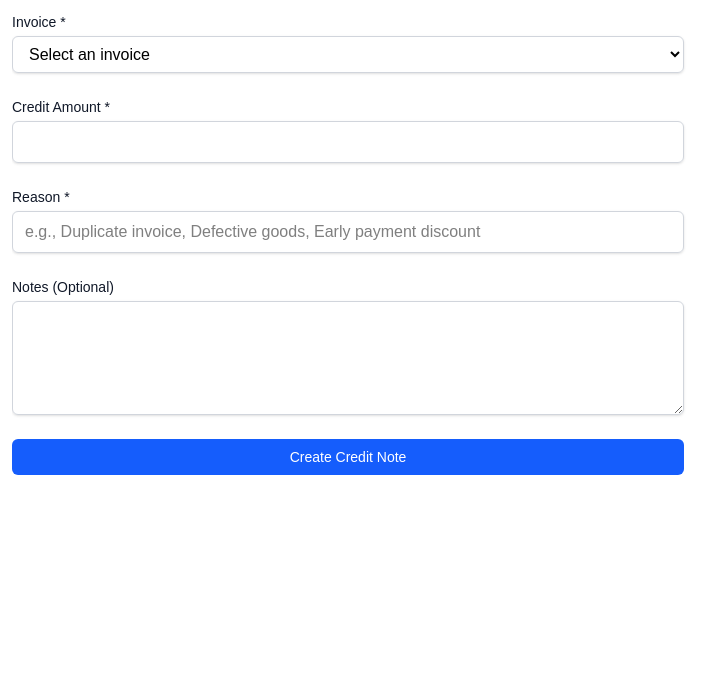
Scenario: CreateCreditNoteForm › creates nothing when the confirmation is dismissed
This screenshot has width=701, height=688.
Step 1. Select "INV-0001 - Due: 300.00 AUD" in the dropdown labelled "Invoice *" → point(348, 54), box [12,36,684,73]
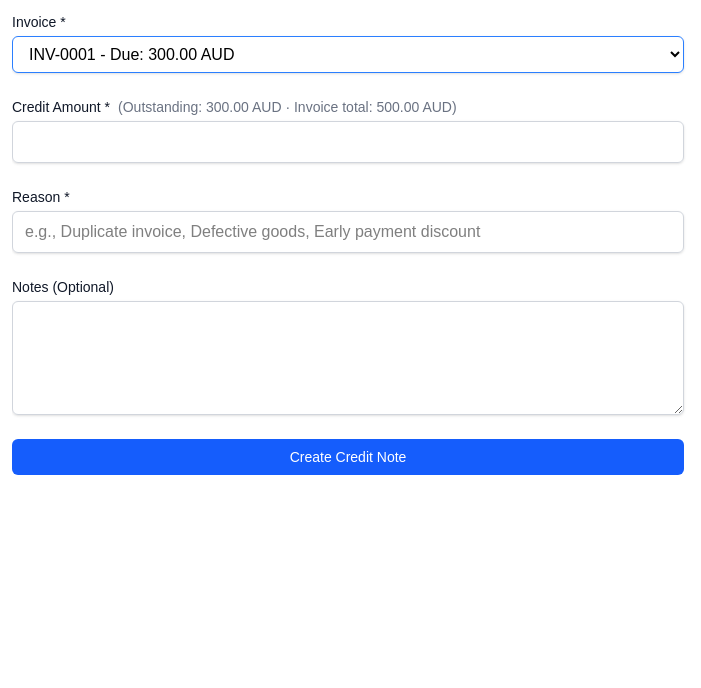
Step 2. Type "400" into the number field labelled "Credit Amount" → point(348, 142), box [12,121,684,163]
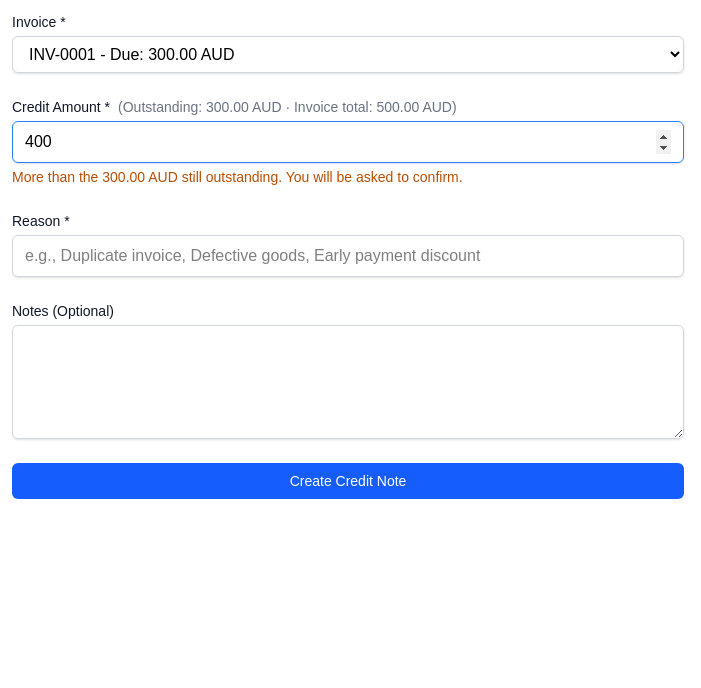
Step 3. Type "Returned goods" into the field labelled "Reason *" → point(348, 256), box [12,235,684,277]
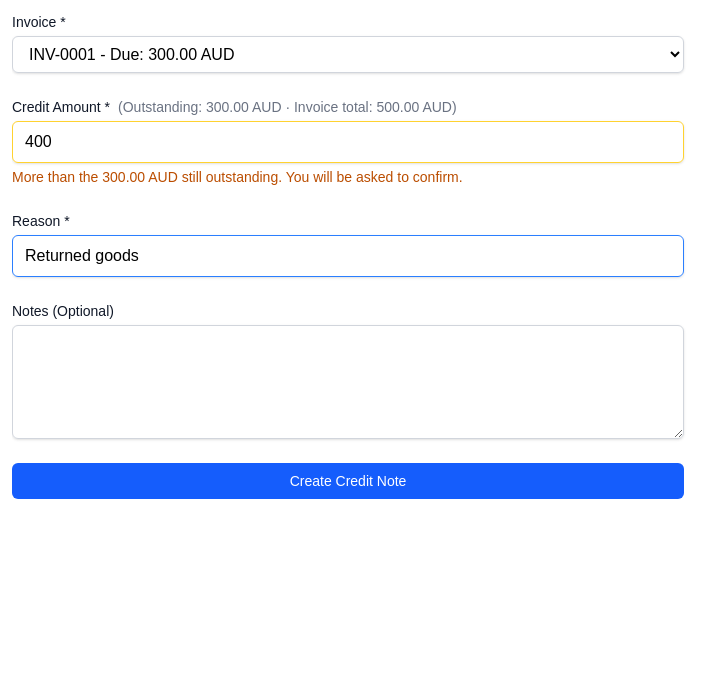
Step 4. Click the button "Create Credit Note" → point(348, 481), box [12,463,684,499]
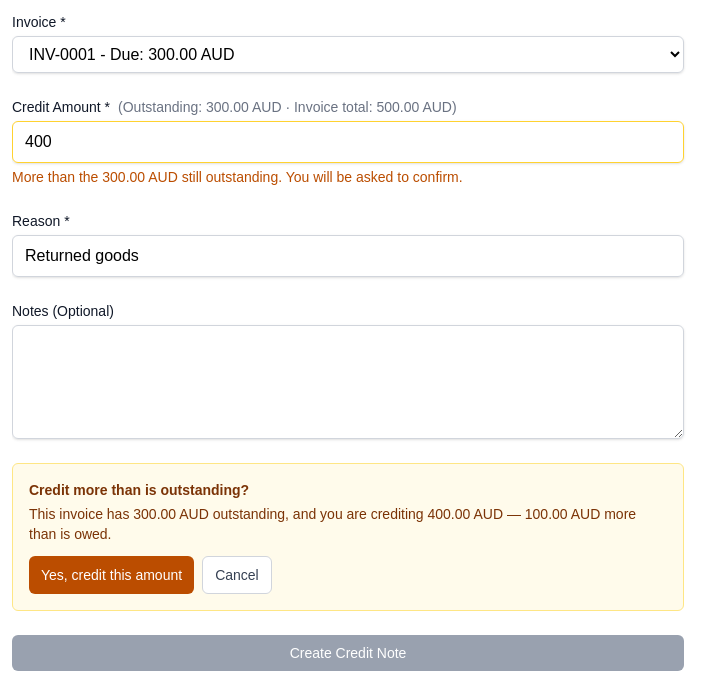
Step 5. Click the button "Cancel" → point(237, 575), box [202,556,272,594]
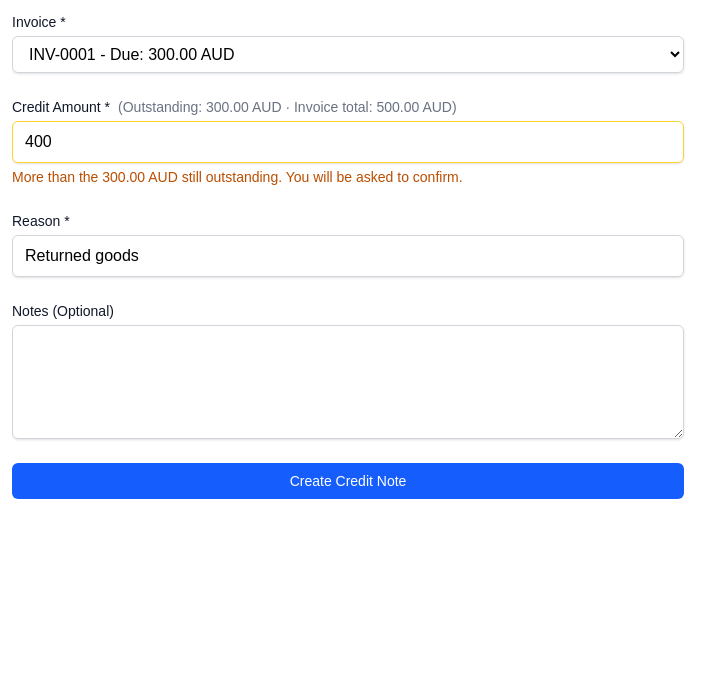
Result: the text "Credit more than is outstanding?" is gone
